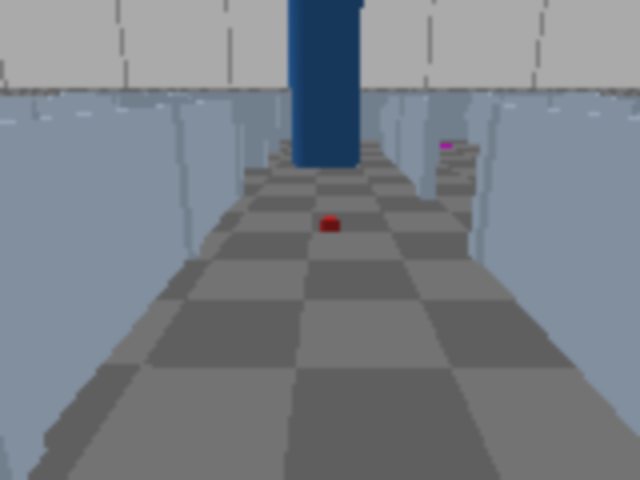puck: (321, 217, 338, 232)
